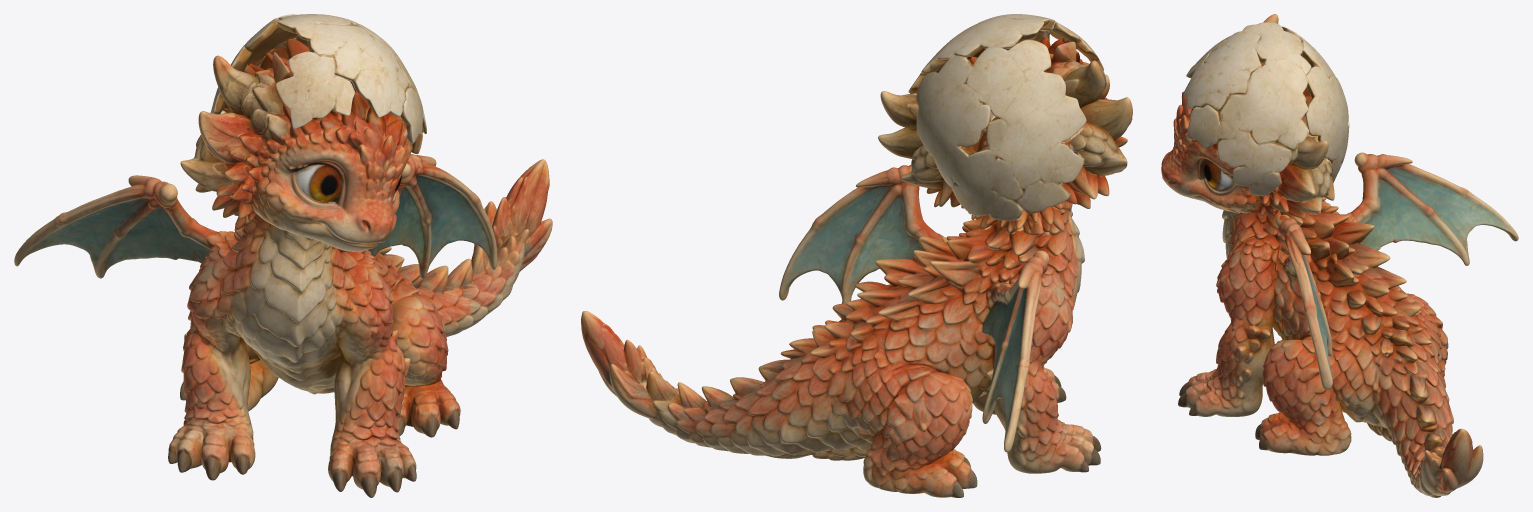
Rendered from preview.glb.
3 views of the same model, side by side, from view 1: azimuth 30°, elevation 25°; view 2: azimuth 150°, elevation 25°; view 3: azimuth 270°, elevation 25° (orthographic). The views are drawn at different scales.
Visible parts, largest first — view 1: baby-dragon; view 2: baby-dragon; view 3: baby-dragon.
Part boxes in pixels (x1,y1,x2,y2): baby-dragon: (14, 14, 552, 497); baby-dragon: (581, 14, 1132, 497); baby-dragon: (1161, 14, 1518, 497).
Bounding box in the file's own units: 0.5498 × 0.4656 × 0.4178.
1 material, 1 textured.
